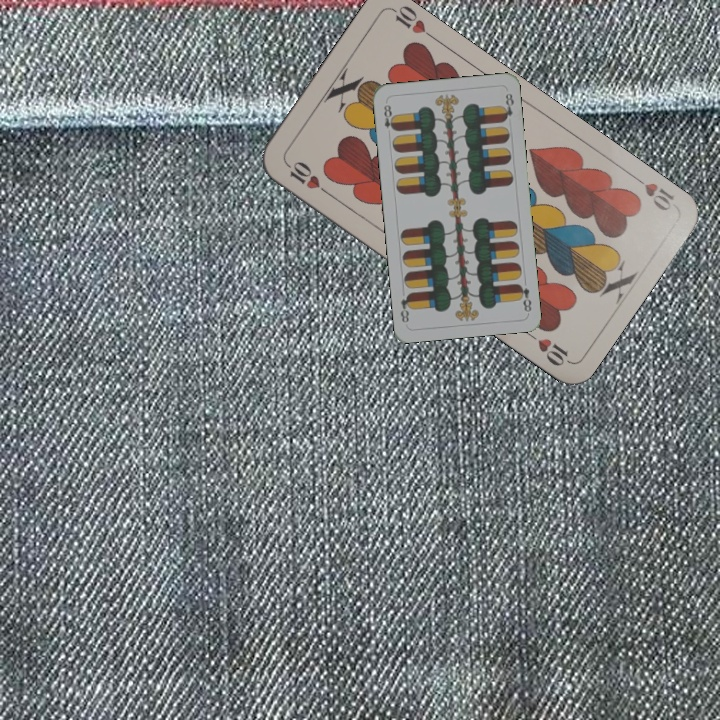E8: (514, 280, 534, 314), (380, 100, 398, 133)
H10: (281, 156, 333, 199), (627, 170, 677, 214)
